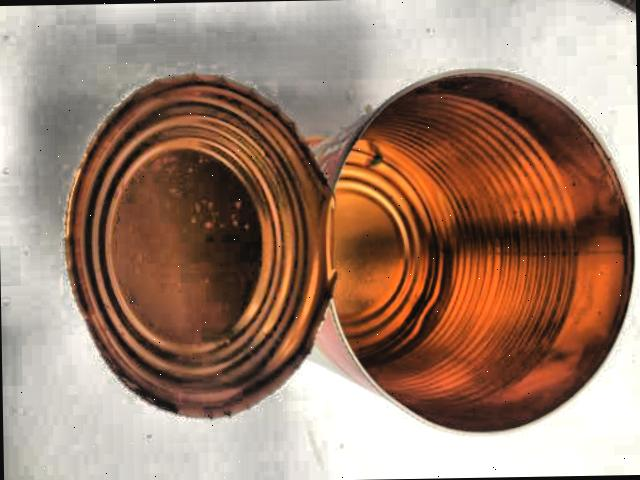Almennt: (53, 42, 640, 439)
